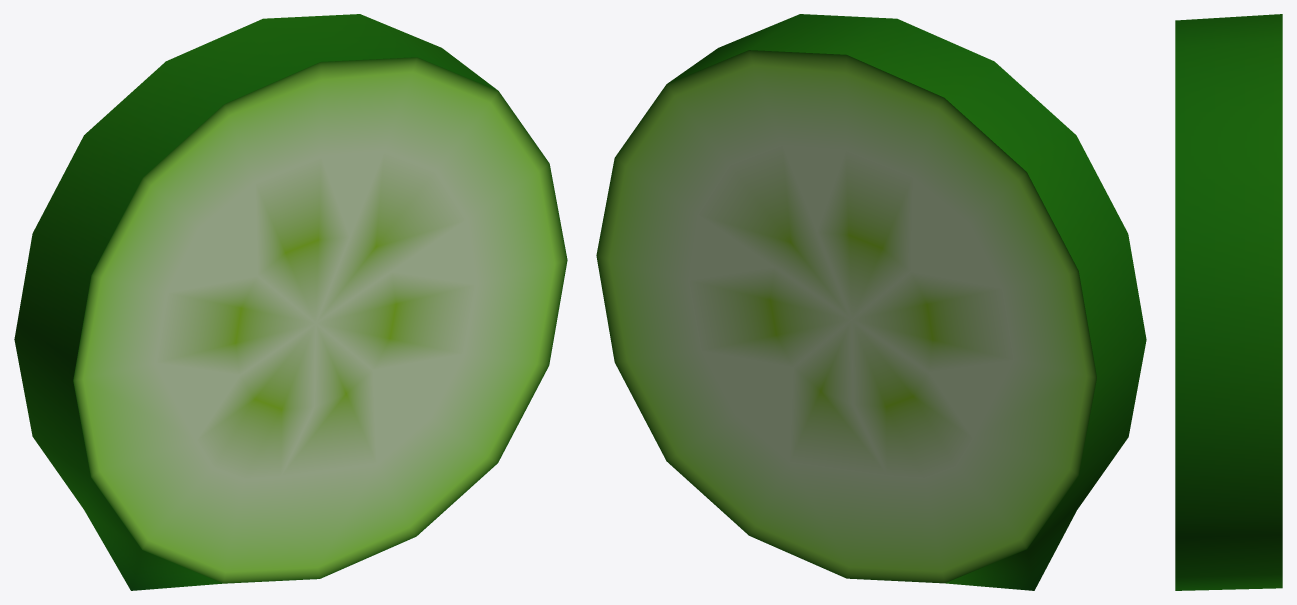
The model's file is Cucumber_Slice_09.fbx.
3 views of the same model, side by side, from view 1: azimuth 30°, elevation 25°; view 2: azimuth 150°, elevation 25°; view 3: azimuth 270°, elevation 25° (orthographic).
Visible parts, largest first — view 1: Cucumber_Slice_09; view 2: Cucumber_Slice_09; view 3: Cucumber_Slice_09.
Part boxes in pixels (x1,y1,x2,y2): Cucumber_Slice_09: (14,14,567,590); Cucumber_Slice_09: (596,14,1146,590); Cucumber_Slice_09: (1175,14,1282,590).
Bounding box in the file's own units: 4.6 × 4.6 × 0.8617.
